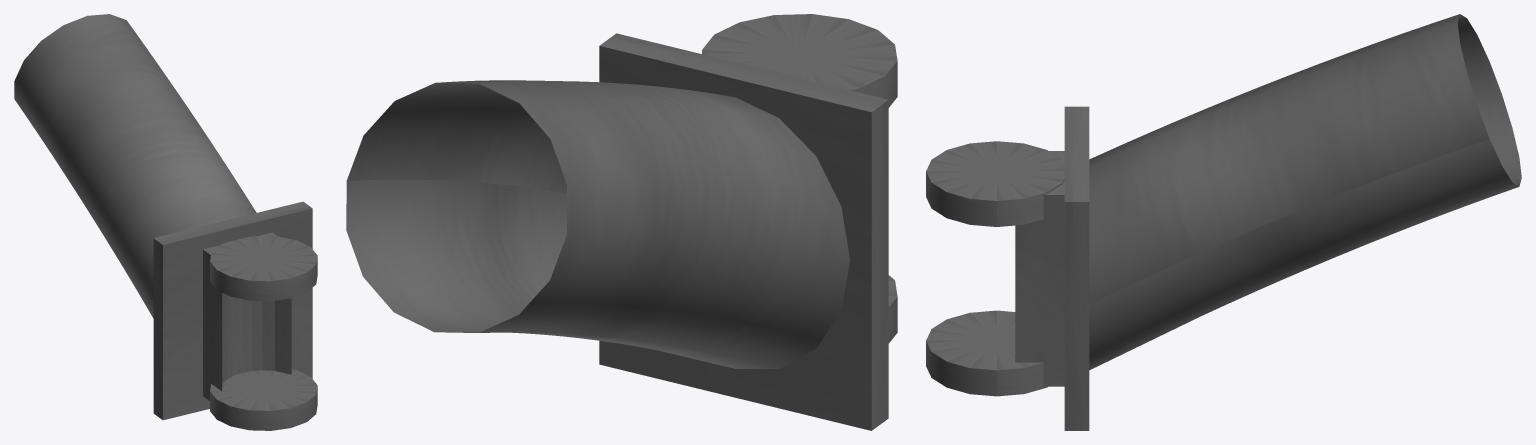
The model's file is mastarmcurve_4x1_c0_ped.obj.
3 renders of one model, left to right at view 1: azimuth 30°, elevation 25°; view 2: azimuth 150°, elevation 25°; view 3: azimuth 270°, elevation 25°, orthographic. The views are drawn at different scales.
Parts seen in each view (by area): view 1: mastarm_4x1_c0_ped; view 2: mastarm_4x1_c0_ped; view 3: mastarm_4x1_c0_ped.
Boxes of the visible parts, <box> form: mastarm_4x1_c0_ped: <box>14,14,317,430</box>; mastarm_4x1_c0_ped: <box>346,14,897,430</box>; mastarm_4x1_c0_ped: <box>926,14,1521,430</box>.
Bounding box in the file's own units: 0.6875 × 1.21 × 1.81.
